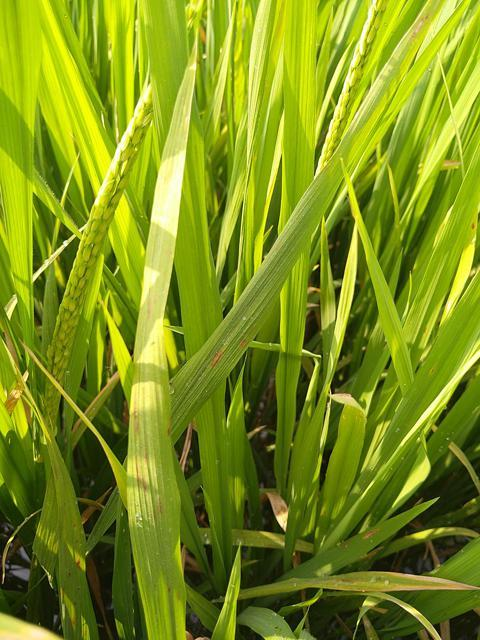Leaf Streak: (125, 41, 196, 639), (204, 341, 230, 371)
